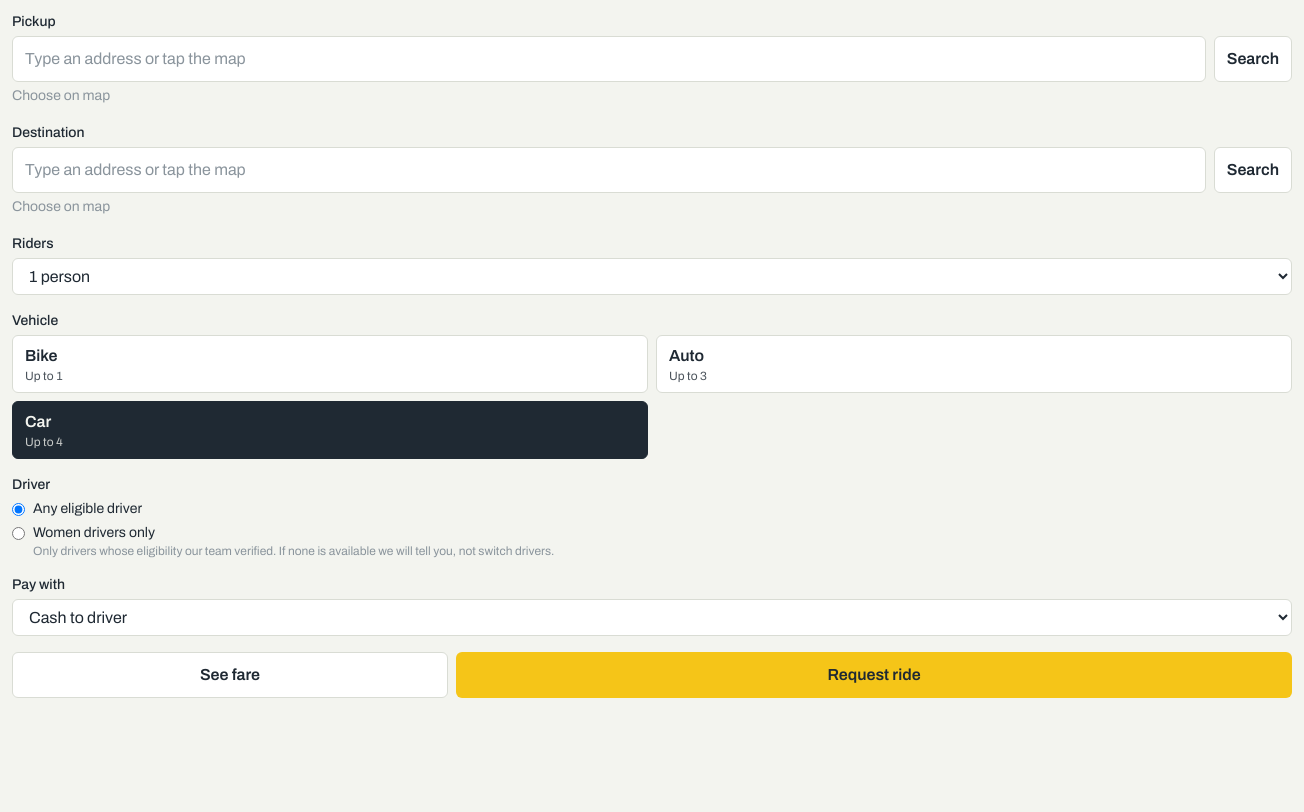
#90 booking form › prevents submission without valid places
Click the button "Request ride" at (874, 675), box [456,652,1292,698]
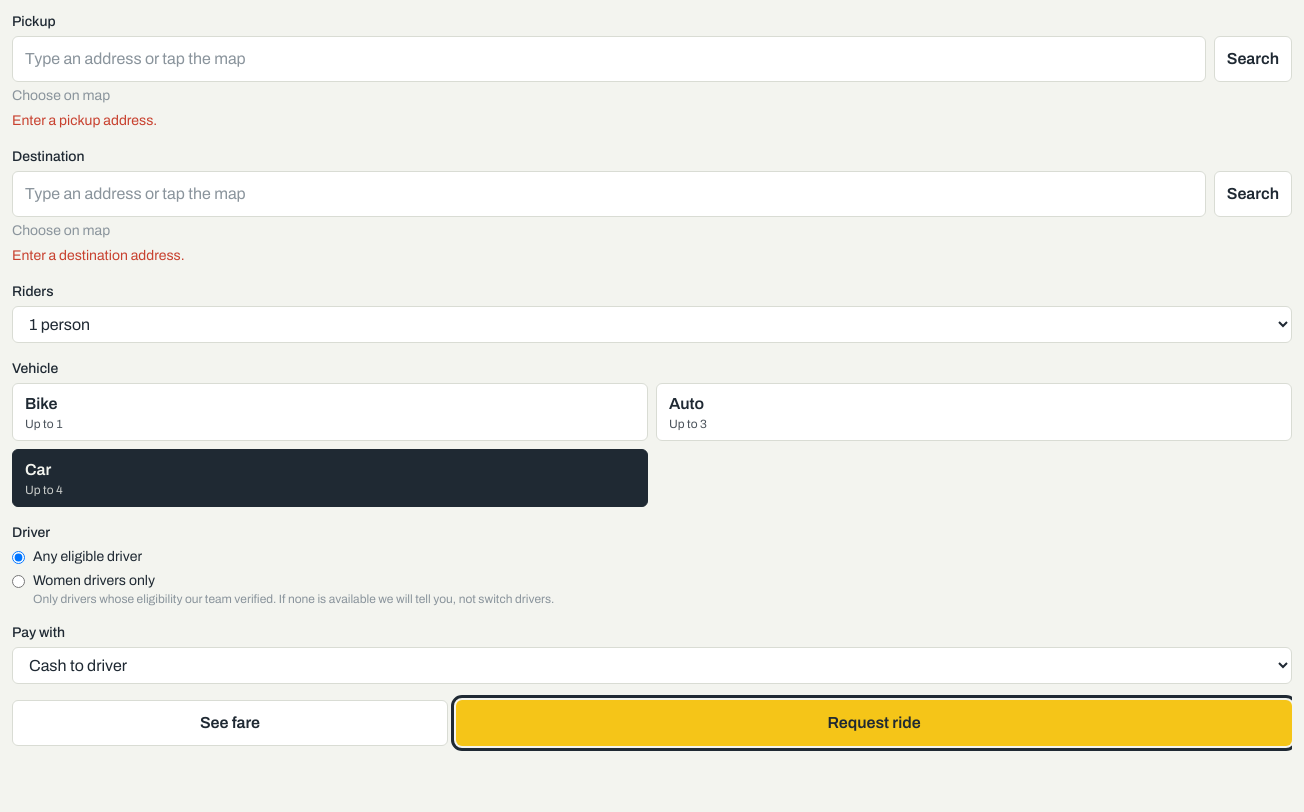
Expected: the text "Enter a pickup address." is shown, [12,113,157,128]
Expected: the text "Enter a destination address." is shown, [12,248,185,263]
